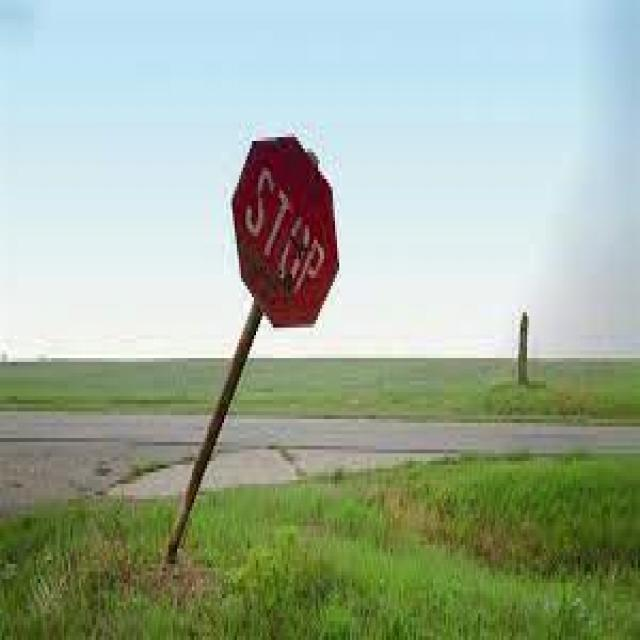stop-sign: (216, 78, 371, 298)
